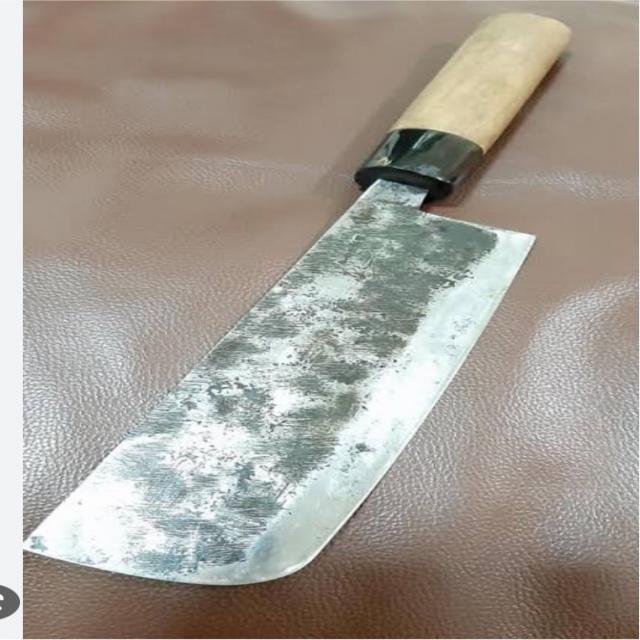Knife: (41, 6, 588, 592)
